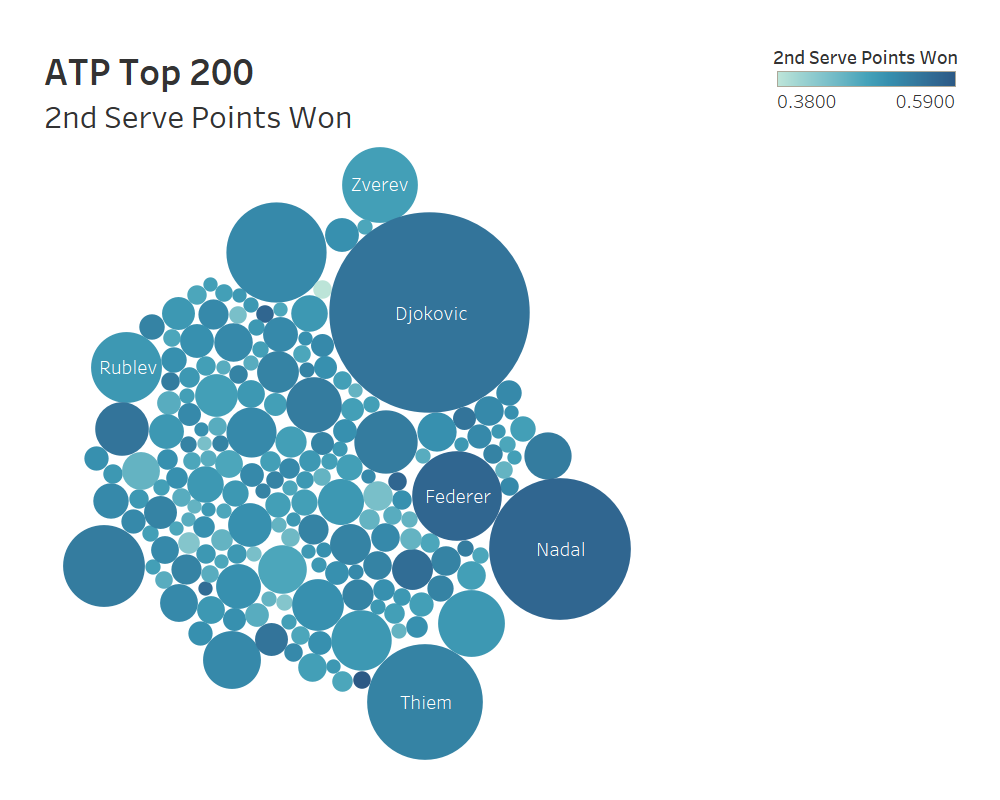

Layout of this report page (visuals, bound fields, positions):
{"tool":"tableau","page":{"name":"Dashboard 2","canvas":[1000,800],"ordinal":1},"visuals":[{"type":"worksheet","box":[0,0,1000,800]},{"type":"worksheet","param":"horz","box":[36,36,928,728]},{"type":"worksheet","box":[36,36,733,728]},{"type":"worksheet","title":"Sheet 2","mark":"Circle","box":[36,36,733,728]},{"type":"worksheet","param":"vert","box":[769,36,195,728]},{"type":"worksheet","title":"Sheet 2","mark":"Circle","param":"[federated.0wjdd3s1b1sv0k1gaysik1nfkv98].[sum:2nd Serve Points Won:qk]","box":[769,36,195,81]}]}

Visuals, with their boxes in screenshot pixels (x1, y1, x2, y2), scaled from the page's 1000x800 canvas onto the 1000x800 screenshot:
worksheet: BBox(0, 0, 999, 799)
worksheet: BBox(36, 36, 964, 764)
worksheet: BBox(36, 36, 769, 764)
"Sheet 2" worksheet (Circle marks): BBox(36, 36, 769, 764)
worksheet: BBox(769, 36, 964, 764)
"Sheet 2" worksheet (Circle marks): BBox(769, 36, 964, 117)
